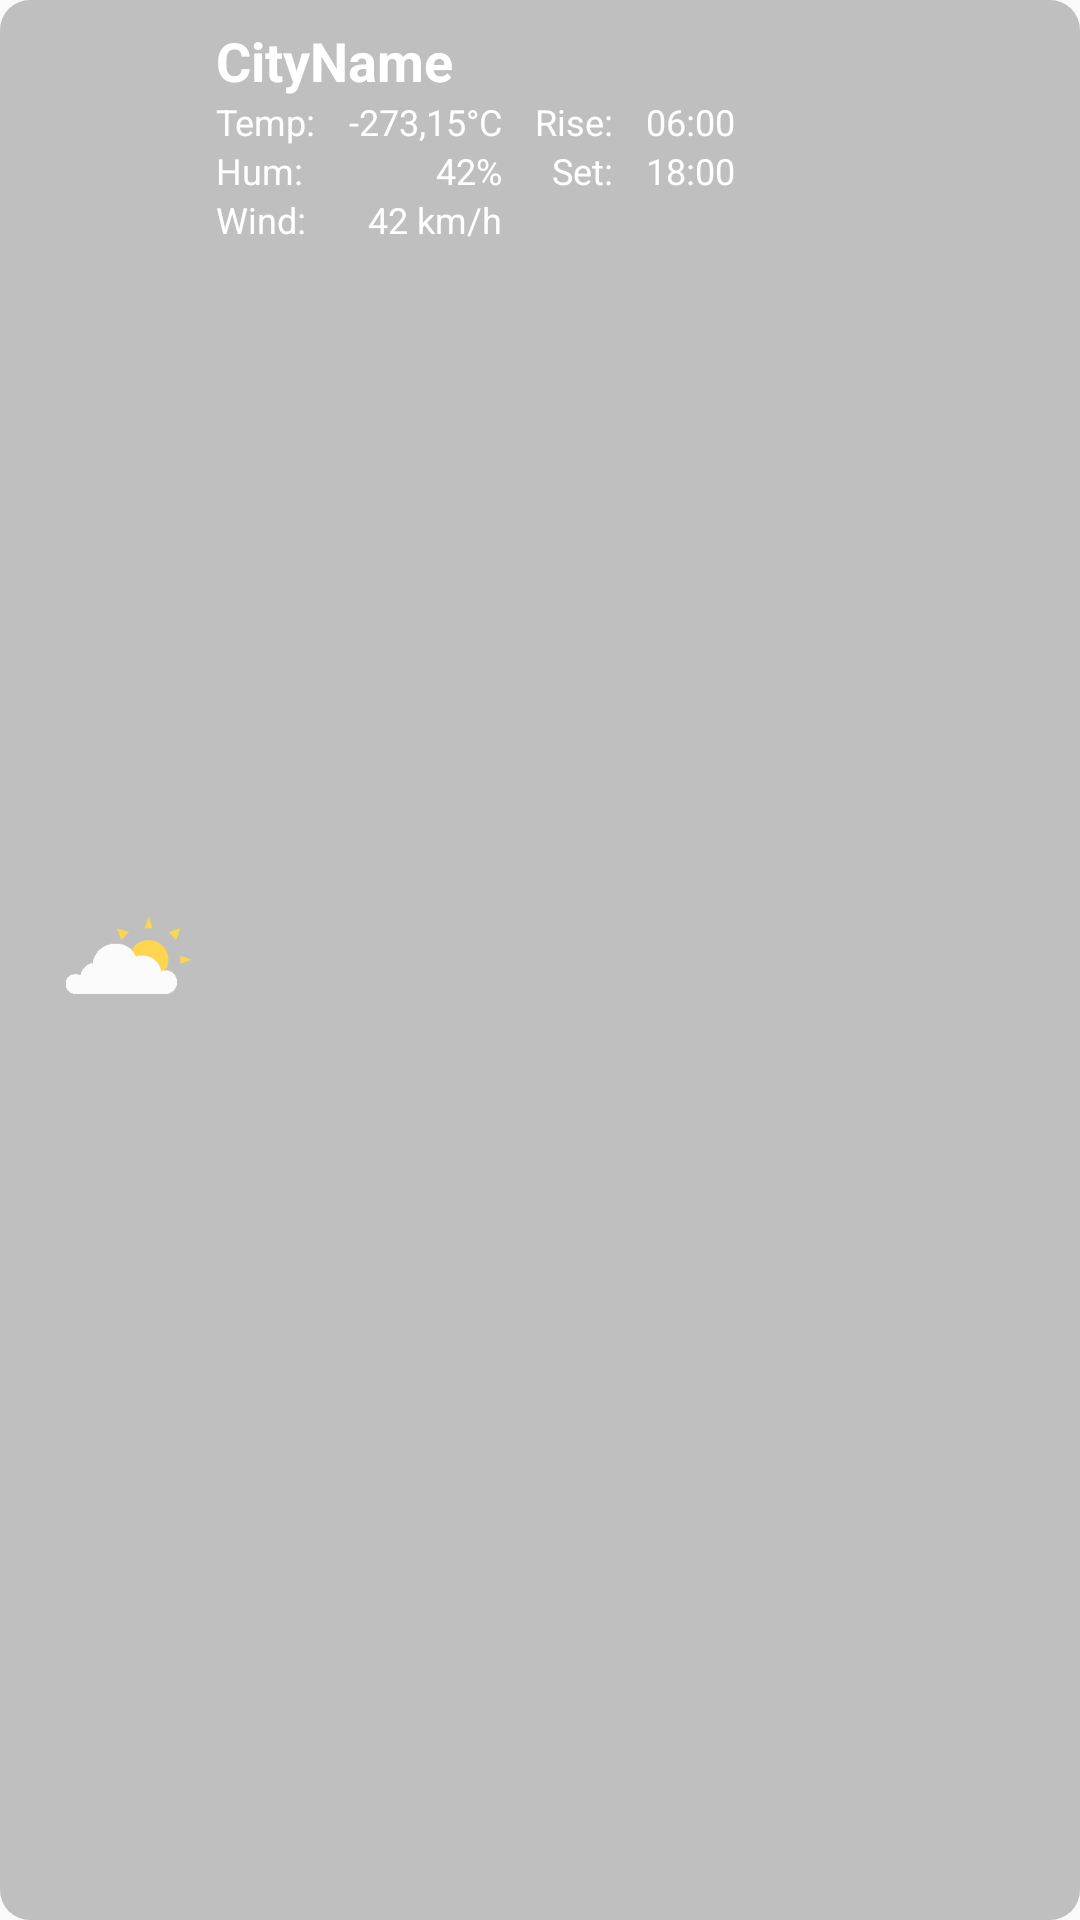

Icons on this 1080×1920 Android screen, each with the point to tap as (x,y):
weather sunny with clouds: (129,955)
